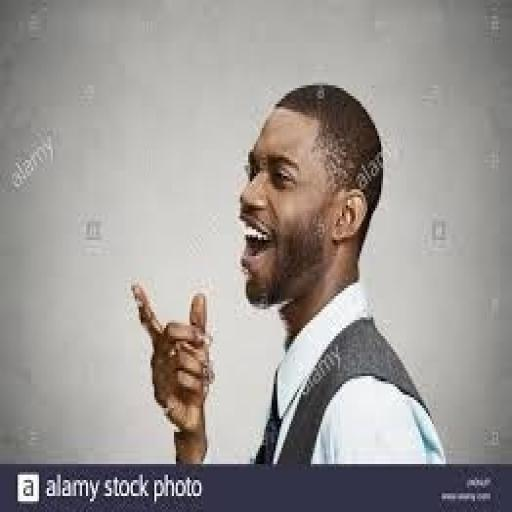laughing: (123, 69, 450, 464)
